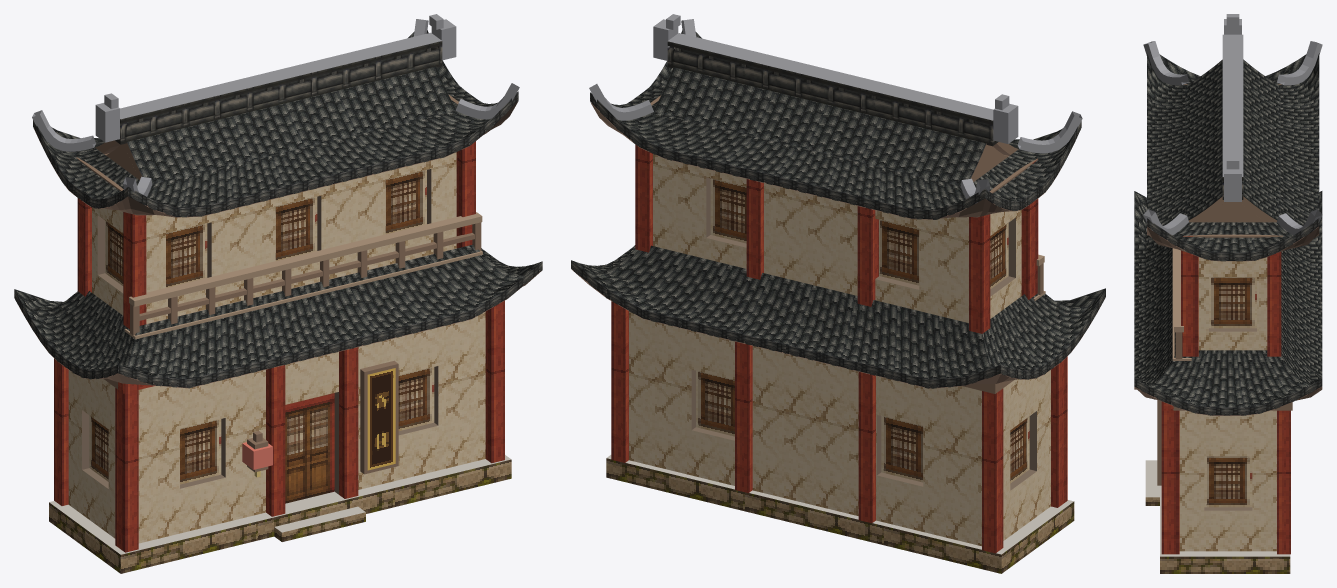
The model's file is b_inn.glb.
The picture shows the model from 3 angles, left to right: view 1: azimuth 30°, elevation 25°; view 2: azimuth 150°, elevation 25°; view 3: azimuth 270°, elevation 25°; orthographic projection. The views are drawn at different scales.
Parts seen in each view (by area): view 1: roof, plaster, post, win, eave, stone, ridge, ridgeend, wood, woodl, door, stonetop (+4 smaller); view 2: plaster, roof, post, win, eave, stone, ridge, ridgeend, reveal, stonetop, under, wood; view 3: roof, plaster, post, ridgeend, win, eave, wood, stone, stonetop, under, woodl, reveal.
Boxes of the visible parts, box(x1,y1,x2,y2) form: roof: box(14, 30, 541, 379); plaster: box(68, 152, 485, 543); post: box(54, 141, 504, 552); win: box(89, 170, 434, 484); eave: box(14, 92, 542, 388); stone: box(49, 459, 511, 573); ridge: box(115, 41, 442, 144); ridgeend: box(32, 14, 519, 196); wood: box(76, 94, 481, 474); woodl: box(124, 212, 482, 339); door: box(285, 393, 334, 503); stonetop: box(49, 455, 511, 554); plaster: box(629, 154, 1050, 546); roof: box(572, 30, 1105, 379); post: box(611, 144, 1067, 553); win: box(696, 178, 1029, 483); eave: box(571, 92, 1105, 388); stone: box(606, 458, 1074, 573); ridge: box(667, 41, 998, 146); ridgeend: box(589, 14, 1082, 203); reveal: box(691, 177, 1036, 490); stonetop: box(606, 455, 1073, 554); under: box(571, 102, 1105, 388); wood: box(650, 95, 1043, 393); roof: box(1134, 53, 1322, 407); plaster: box(1179, 257, 1276, 551); post: box(1161, 250, 1290, 554); ridgeend: box(1143, 14, 1322, 235); win: box(1204, 277, 1256, 507); eave: box(1134, 218, 1322, 415); wood: box(1154, 84, 1292, 485); stone: box(1145, 497, 1290, 573); stonetop: box(1145, 460, 1290, 556); under: box(1134, 226, 1322, 415); woodl: box(1172, 248, 1191, 360); reveal: box(1204, 328, 1256, 510).
Bounding box in the file's own units: 69.6 × 68.89 × 29.48.
18 materials, 10 textured.
